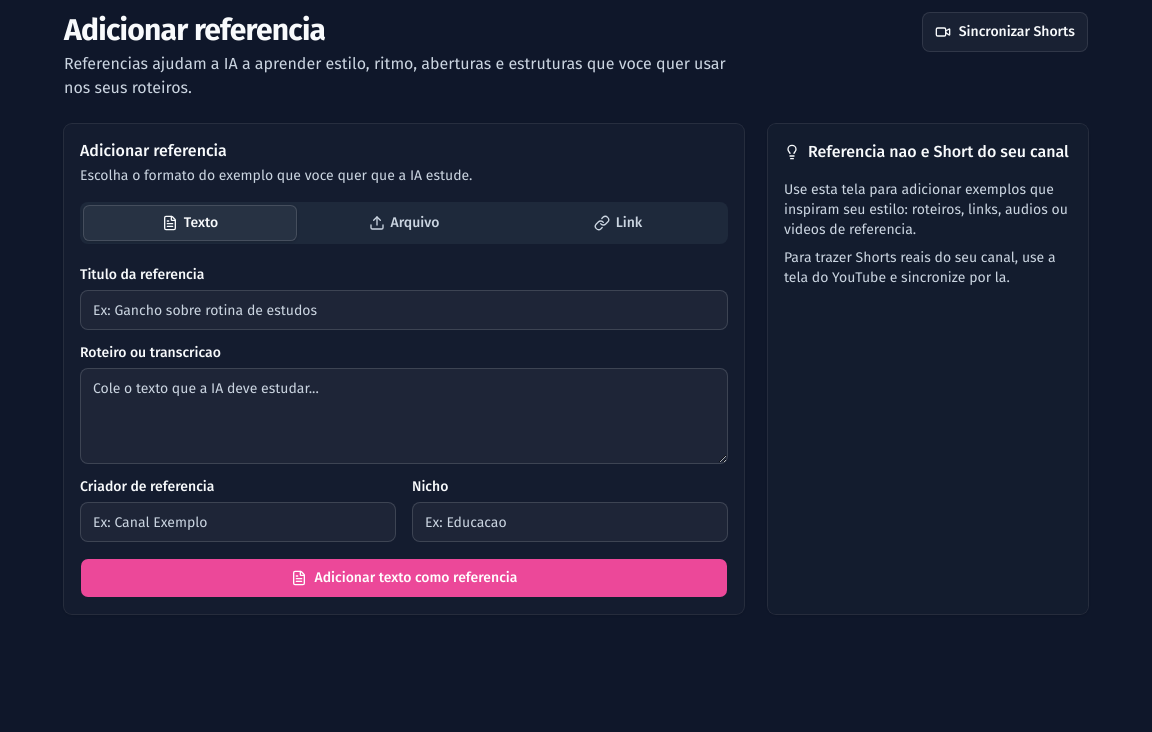
Import Page › shows URL input when url tab is clicked
The width and height of the screenshot is (1152, 732).
Click the tab with test id "tab-url": (618, 223) [511, 205, 725, 241]
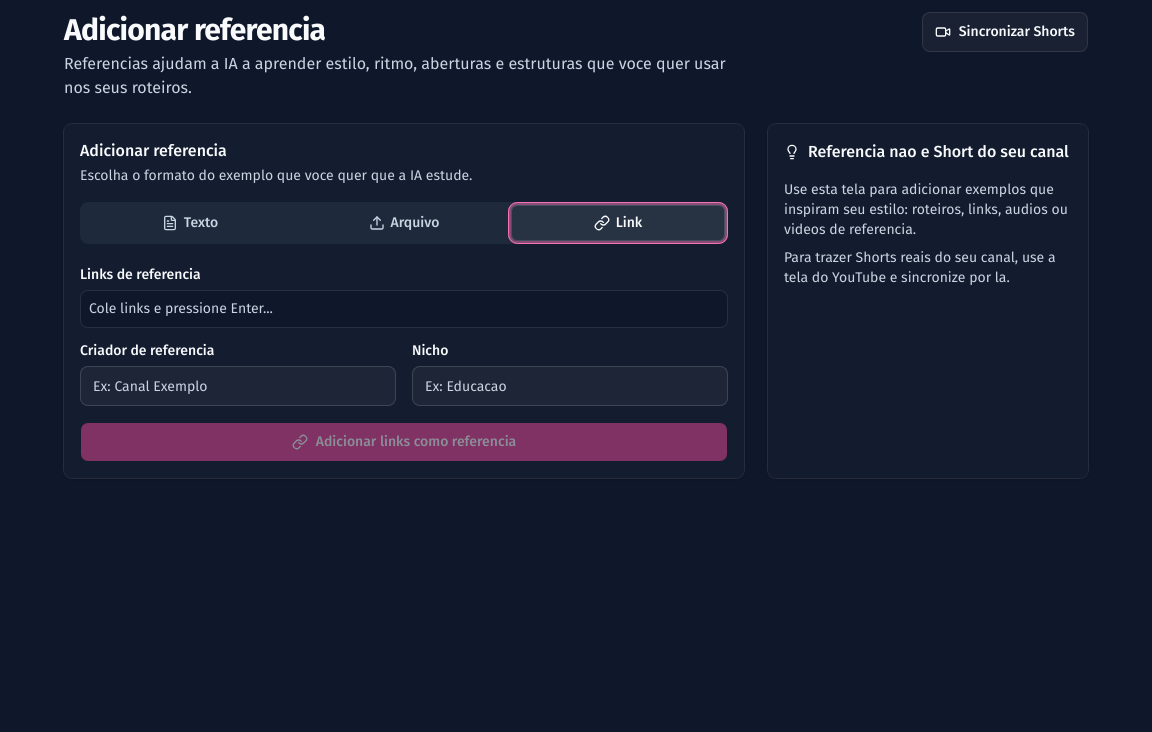
Check: the field with test id "url-input" is shown, box [89, 299, 719, 319]
